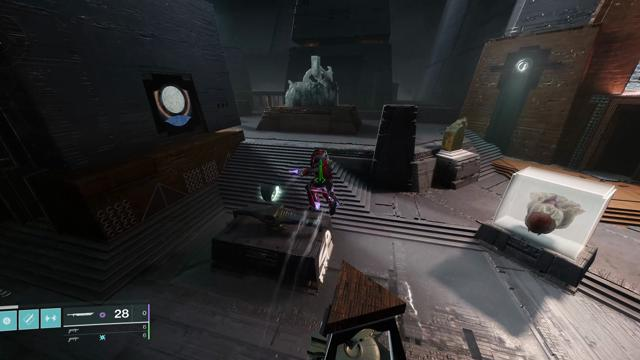traveler: (152, 85, 196, 126)
